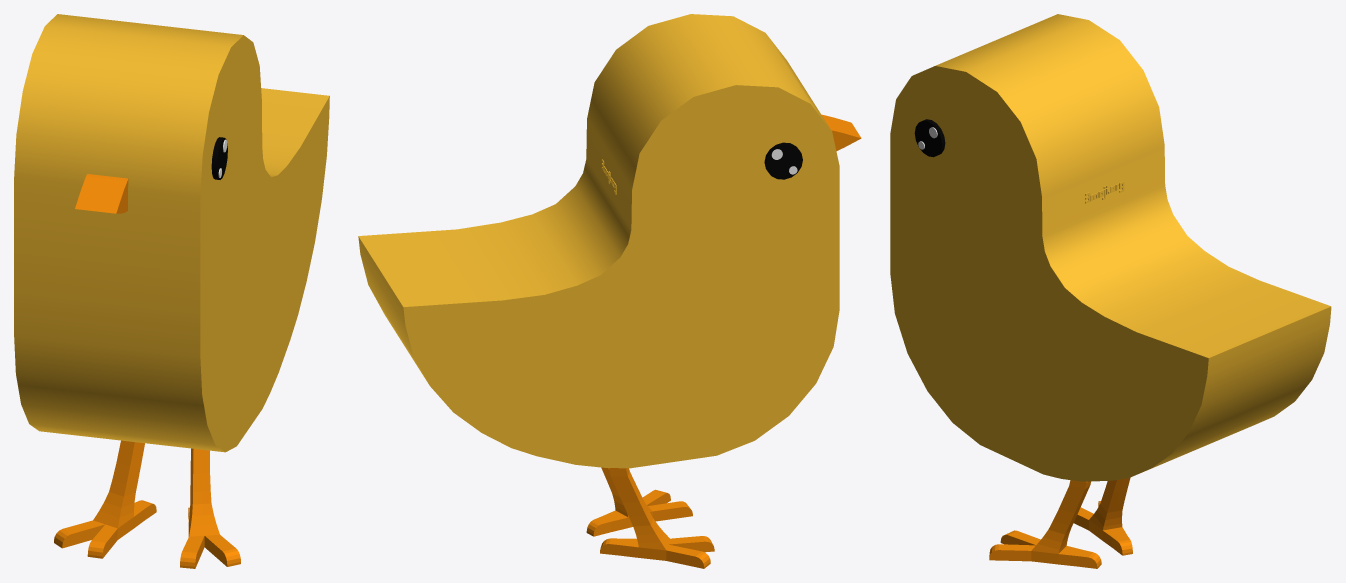
Rendered from baby_chick.glb.
3 views of the same model, side by side, from view 1: azimuth 30°, elevation 25°; view 2: azimuth 150°, elevation 25°; view 3: azimuth 270°, elevation 25° (orthographic). The views are drawn at different scales.
Parts seen in each view (by area): view 1: Cube.6282; view 2: Cube.6282; view 3: Cube.6282.
Boxes of the visible parts, box(x1,y1,x2,y2) form: Cube.6282: box(14, 14, 329, 568); Cube.6282: box(358, 14, 861, 568); Cube.6282: box(890, 14, 1331, 568).
Bounding box in the file's own units: 1.65 × 1.97 × 1.65.
1 material, 1 textured.
